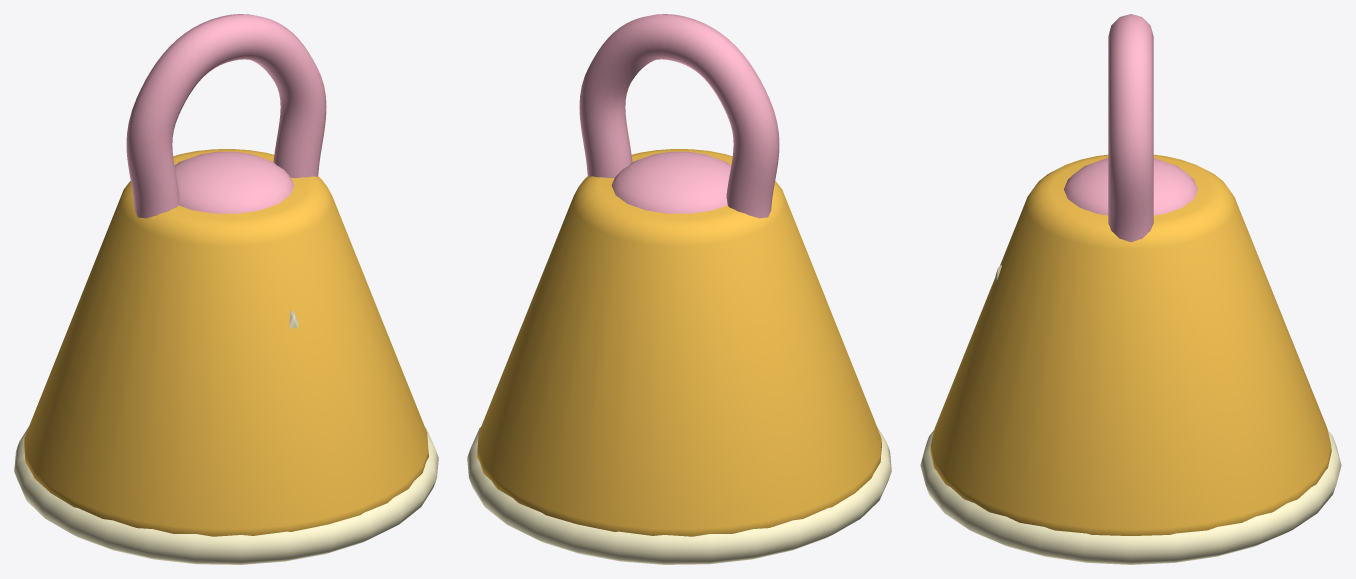
File: bell.glb
3 views of the same model, side by side, from view 1: azimuth 30°, elevation 25°; view 2: azimuth 150°, elevation 25°; view 3: azimuth 270°, elevation 25° (orthographic).
Visible parts, largest first — view 1: CMP_Music_Bell_Body, CMP_Music_Bell_Handle, CMP_Music_Bell_Rim, CMP_Music_Bell_Cap; view 2: CMP_Music_Bell_Body, CMP_Music_Bell_Handle, CMP_Music_Bell_Rim, CMP_Music_Bell_Cap; view 3: CMP_Music_Bell_Body, CMP_Music_Bell_Rim, CMP_Music_Bell_Handle, CMP_Music_Bell_Cap.
Part boxes in pixels (left/top/right/bottom): CMP_Music_Bell_Body: left=24, top=149, right=428, bottom=536; CMP_Music_Bell_Handle: left=126, top=14, right=326, bottom=218; CMP_Music_Bell_Rim: left=14, top=427, right=438, bottom=564; CMP_Music_Bell_Cap: left=174, top=151, right=294, bottom=213; CMP_Music_Bell_Body: left=477, top=149, right=881, bottom=536; CMP_Music_Bell_Handle: left=579, top=14, right=779, bottom=218; CMP_Music_Bell_Rim: left=467, top=427, right=891, bottom=564; CMP_Music_Bell_Cap: left=611, top=151, right=731, bottom=213; CMP_Music_Bell_Body: left=930, top=154, right=1331, bottom=535; CMP_Music_Bell_Rim: left=920, top=430, right=1341, bottom=564; CMP_Music_Bell_Handle: left=1108, top=14, right=1153, bottom=242; CMP_Music_Bell_Cap: left=1064, top=158, right=1197, bottom=215.
Bounding box in the file's own units: 2.04 × 2.87 × 2.04.
